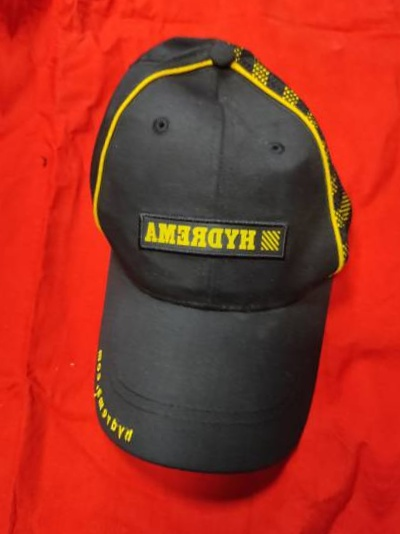Hat: (11, 8, 400, 508)
